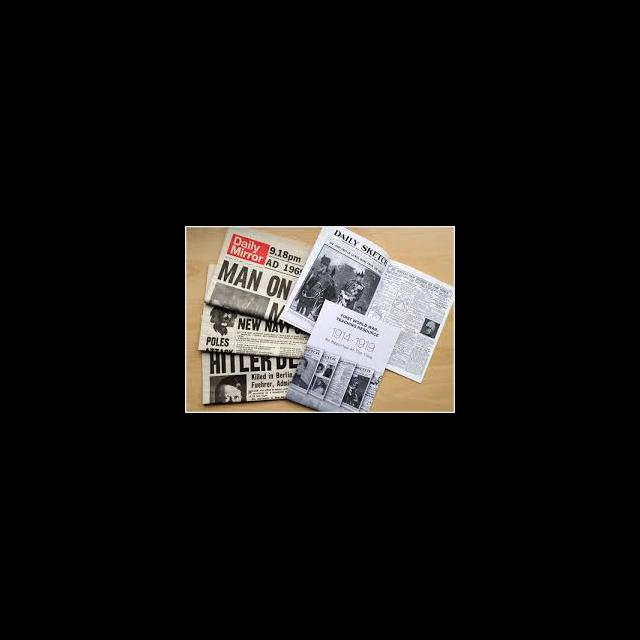paper: (279, 226, 454, 382), (284, 298, 400, 412), (203, 227, 313, 326), (196, 264, 310, 358), (199, 344, 302, 404)
